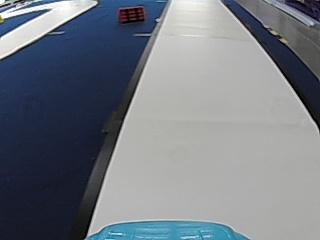bomb: (118, 5, 145, 22)
